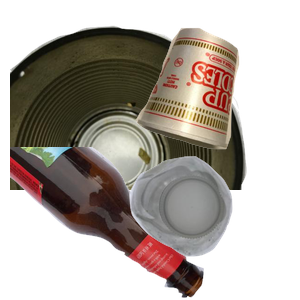glass: (10, 147, 207, 300)
metal: (10, 23, 250, 203)
plastic: (127, 154, 300, 300)
trash: (133, 25, 300, 167)
